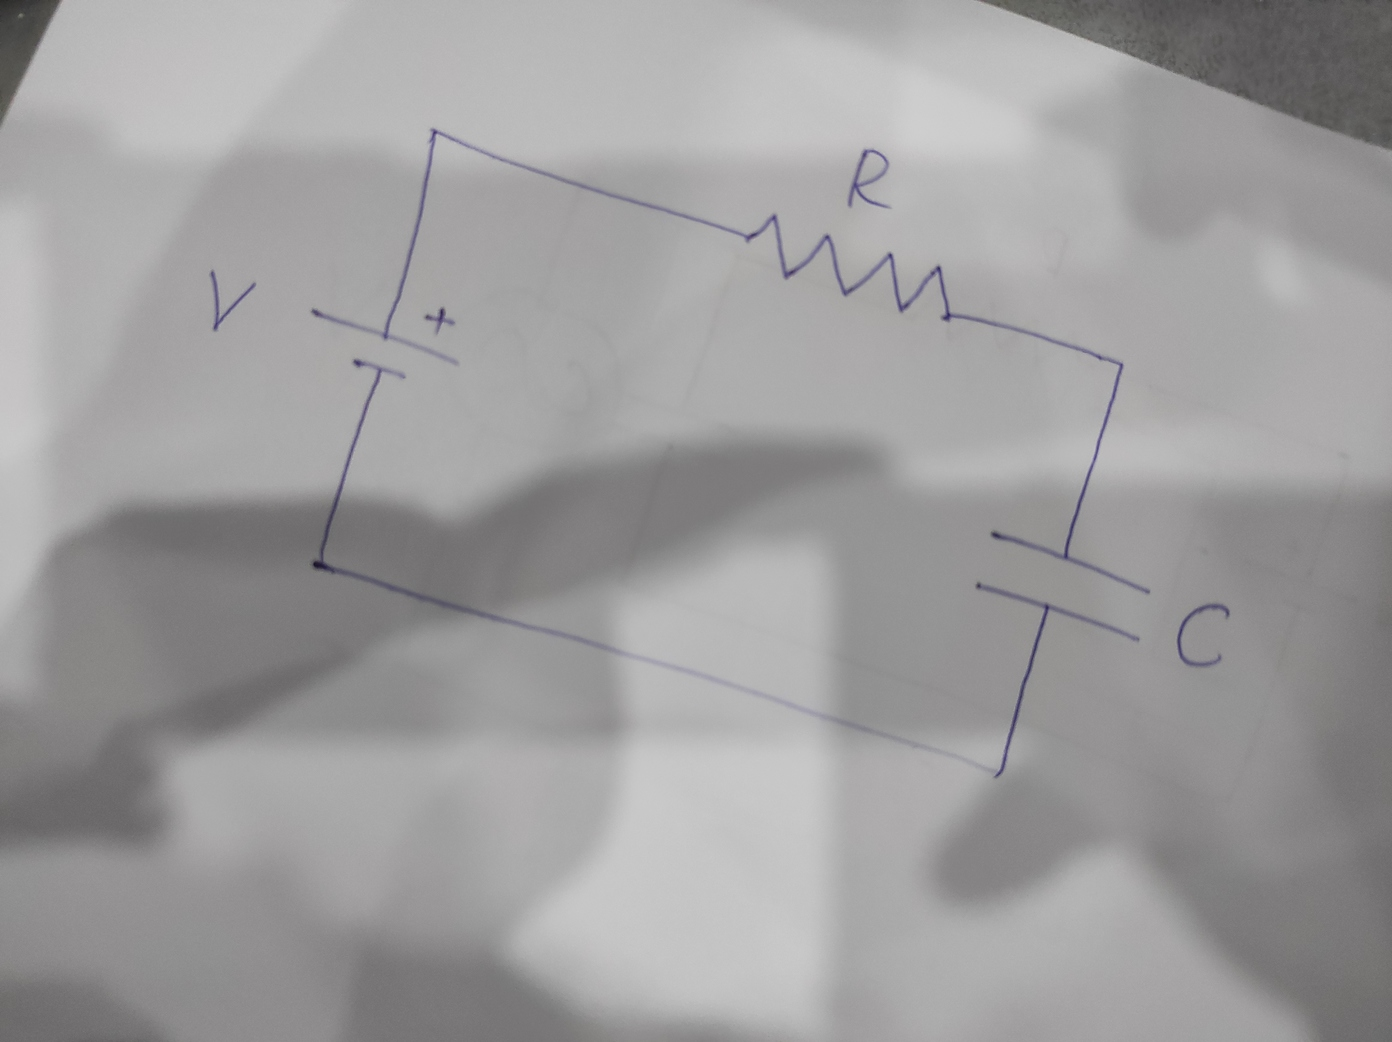capacitor.unpolarized: (968, 529, 1156, 646)
junction: (302, 548, 336, 581), (984, 759, 1009, 788), (1105, 348, 1128, 378), (425, 120, 446, 144)
resistor: (739, 211, 956, 326)
text: (1172, 599, 1236, 672), (843, 144, 897, 213), (208, 267, 260, 335)
voltage.dc: (305, 303, 464, 384)
